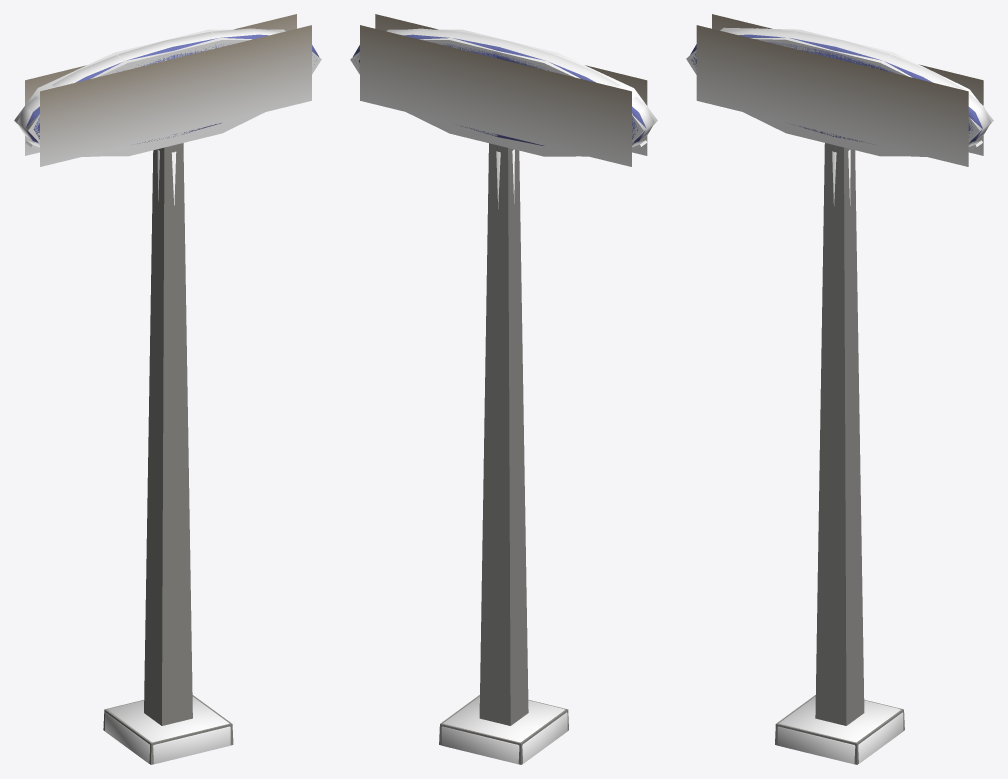
File: hr_petrolstation_sign.DAE
3 renders of one model, left to right at view 1: azimuth 30°, elevation 25°; view 2: azimuth 150°, elevation 25°; view 3: azimuth 330°, elevation 25°, orthographic.
Parts seen in each view (by area): view 1: Colmesh-1, hr_petrolstation_sign60, hr_petrolstation_sign150; view 2: Colmesh-1, hr_petrolstation_sign60, hr_petrolstation_sign150; view 3: Colmesh-1, hr_petrolstation_sign60, hr_petrolstation_sign150.
Part boxes in pixels (left/top/right/bottom): Colmesh-1: left=14, top=29, right=321, bottom=764; hr_petrolstation_sign60: left=17, top=14, right=311, bottom=166; hr_petrolstation_sign150: left=25, top=28, right=318, bottom=764; Colmesh-1: left=350, top=29, right=657, bottom=764; hr_petrolstation_sign60: left=359, top=14, right=654, bottom=166; hr_petrolstation_sign150: left=353, top=28, right=647, bottom=764; Colmesh-1: left=686, top=27, right=993, bottom=764; hr_petrolstation_sign60: left=695, top=14, right=991, bottom=166; hr_petrolstation_sign150: left=690, top=28, right=983, bottom=764.
Size of the model in its own units: 4.25 by 1.2 by 9.58.
